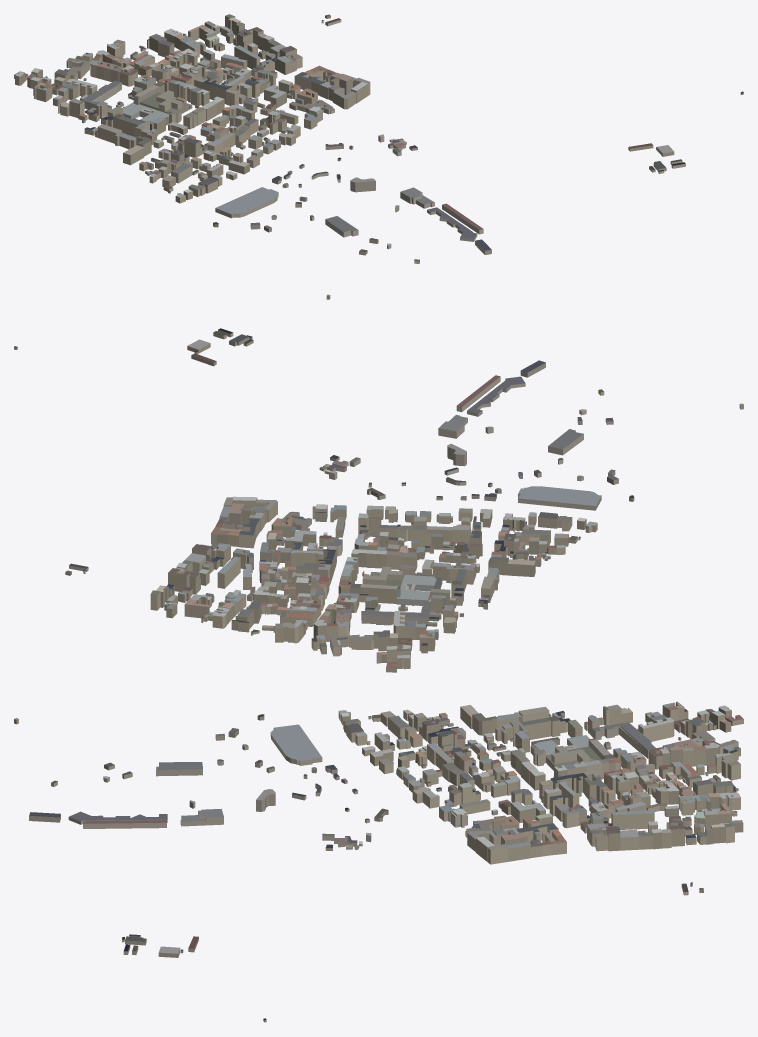
The picture shows the model from 3 angles, top to bottom: view 1: azimuth 30°, elevation 25°; view 2: azimuth 150°, elevation 25°; view 3: azimuth 270°, elevation 25°; orthographic projection. The views are drawn at different scales.
Visible parts, largest first — view 1: tuile; view 2: tuile; view 3: tuile.
Boxes of the visible parts, x1,y1,x2,y2 form: tuile: (14,14,743,299); tuile: (14,328,743,672); tuile: (14,701,743,1022).
Bounding box in the file's own units: 1011 × 31.09 × 1008.
